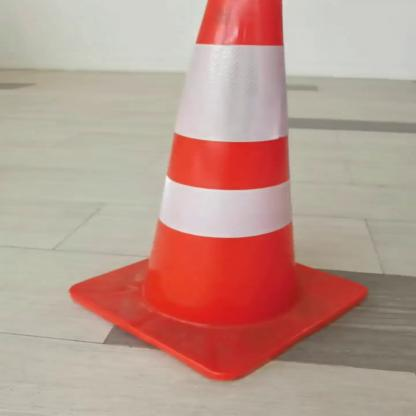cone: (65, 1, 376, 387)
